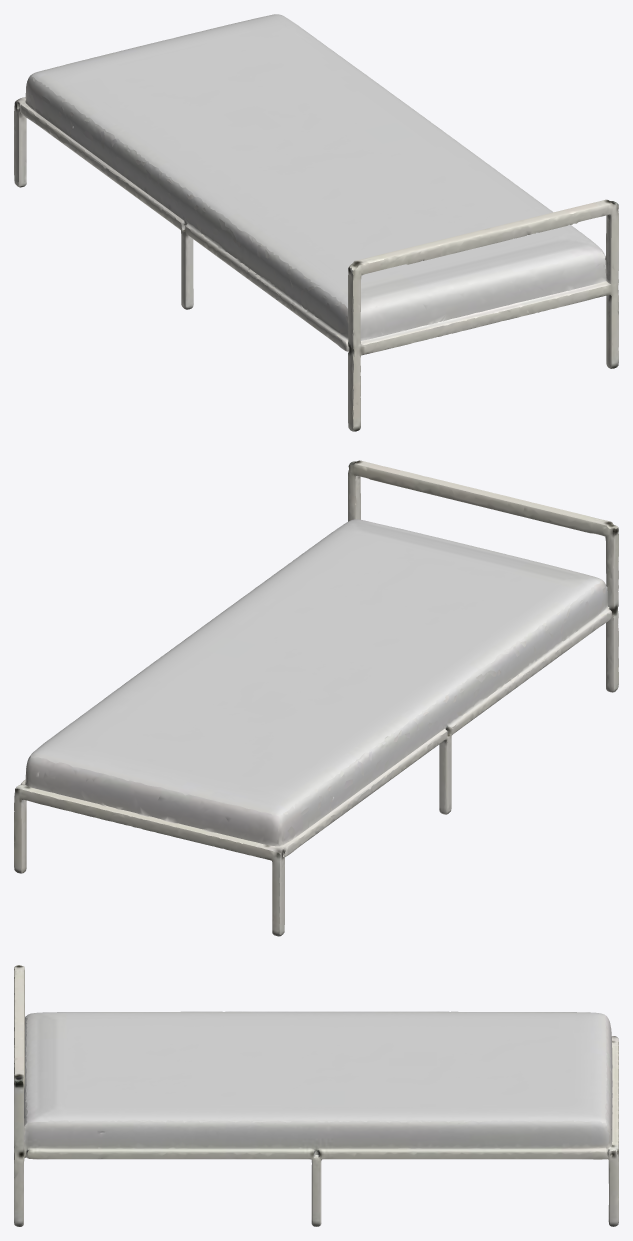
3 views of the same model, one above another, from view 1: azimuth 30°, elevation 25°; view 2: azimuth 150°, elevation 25°; view 3: azimuth 270°, elevation 25° (orthographic). The views are drawn at different scales.
Visible parts, largest first — view 1: Orientation correction; view 2: Orientation correction; view 3: Orientation correction.
Boxes of the visible parts, left/top/right/bottom form: Orientation correction: left=14, top=14, right=618, bottom=431; Orientation correction: left=14, top=460, right=618, bottom=936; Orientation correction: left=14, top=965, right=618, bottom=1226.
Bounding box in the file's own units: 0.92 × 0.55 × 2.02.
1 material, 1 textured.
